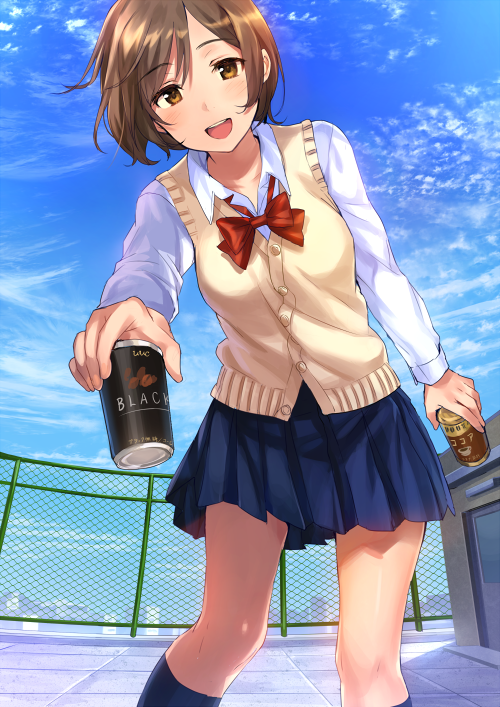纸片人正脸: (86, 0, 284, 158)
